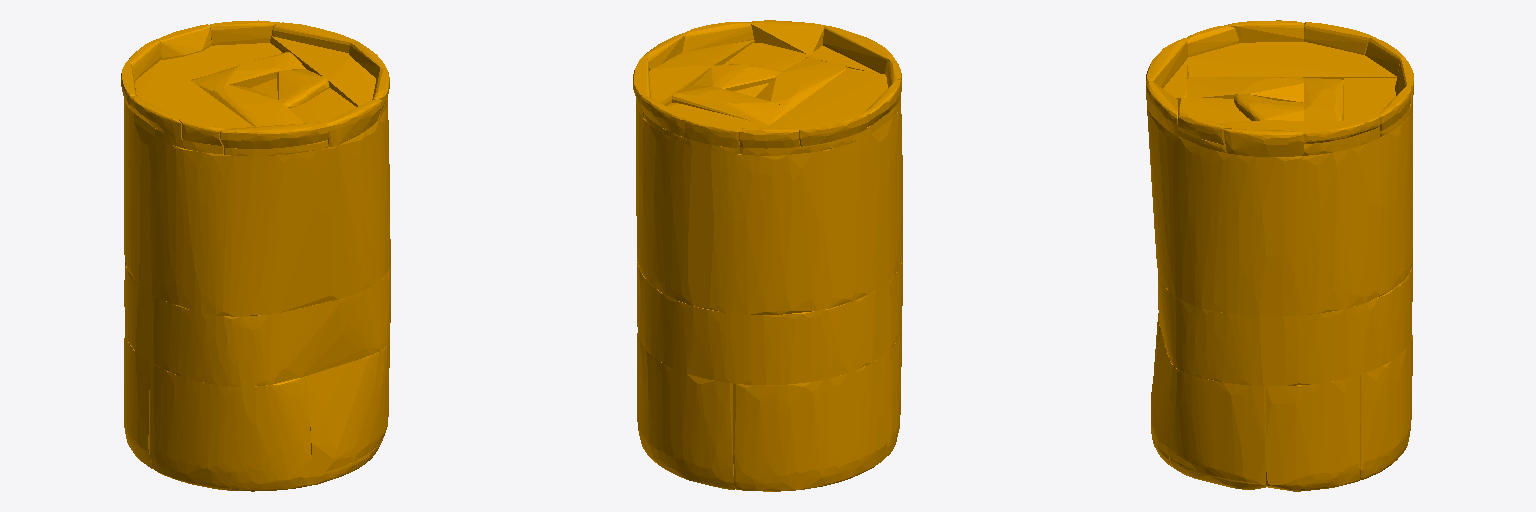
robot.urdf — 005_tomato_soup_can:
<?xml version="1.0" encoding="UTF-8"?>
<robot name="005_tomato_soup_can">
	<link name="base">
		<collision>
			<geometry>
				<mesh filename="..\vhacd\005_tomato_soup_can_vhacd.obj" scale="1.0 1.0 1.0"/>
			</geometry>
			<origin xyz="0 0 0"/>
			<contact_coefficients mu="0.24" />
		</collision>
		<visual>
			<geometry>
				<mesh filename="..\vhacd\005_tomato_soup_can_vhacd.obj" scale="1.0 1.0 1.0"/>
			</geometry>
			<origin xyz="0 0 0"/>
		</visual>
		<inertial>
			<mass value="0.349"/>
			<inertia ixx="0.00034992650317657416" ixy="-1.4603114088284507e-07" ixz="-8.096152704860432e-07" iyy="0.0003526716878464613" iyz="3.544636530596982e-07" izz="0.00019183671267576996" />
			<origin xyz="-0.00934209933207733 0.0842242443703225 0.050025832912501206"/>
		</inertial>
	</link>
</robot>

--- Facts derived from the render (not from the file) ---
3 views of the same robot in one strip: view 1: azimuth 30°, elevation 25°; view 2: azimuth 150°, elevation 25°; view 3: azimuth 270°, elevation 25° (orthographic).
Robot: 005_tomato_soup_can — 1 links, 0 joints (none); root link base; default pose: all joints at 0.
Links seen in each view (by area): view 1: base; view 2: base; view 3: base.
Link boxes in pixels (x1=…): base: x1=121, y1=20, x2=390, y2=491; base: x1=633, y1=20, x2=902, y2=491; base: x1=1146, y1=20, x2=1413, y2=491.
Size in the robot's own frame: 0.0681 by 0.0681 by 0.1022 metres.
Meshes: 1 distinct files referenced, 1 mesh visuals loaded (1 OBJ).